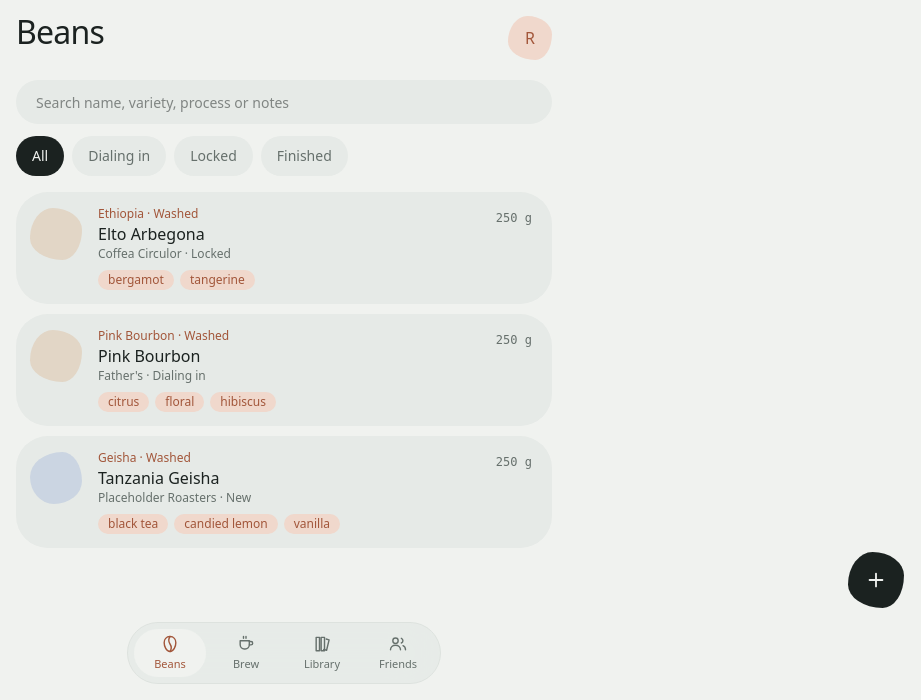
it: Beans: your list › filters by status
Expected: the text "Pink Bourbon" is shown, [98,345,200,367]
Click the button "Locked" at (214, 156), box [174,136,253,176]
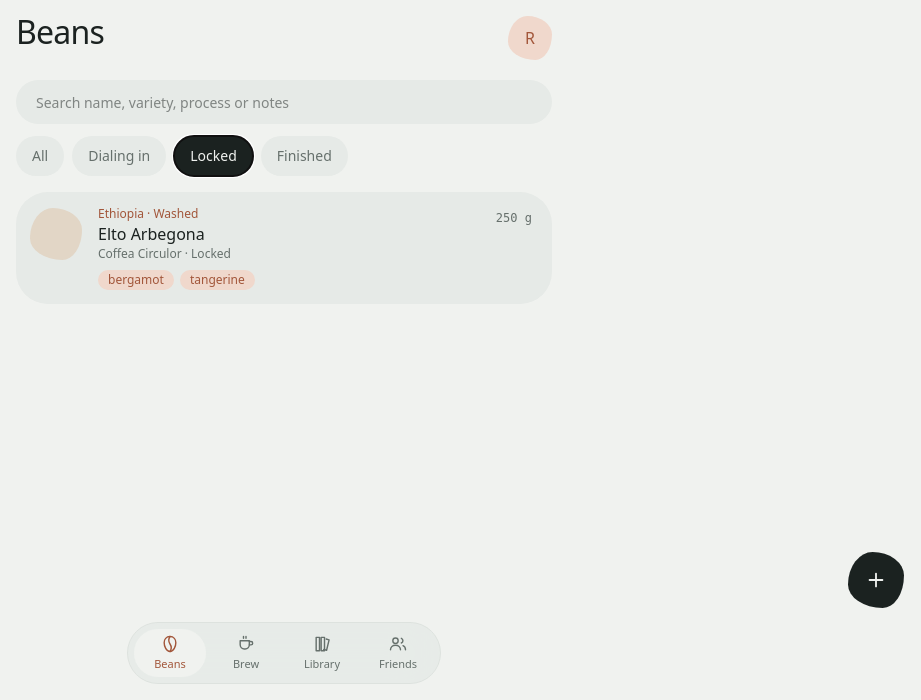
Expected: the text "Elto Arbegona" is shown, [98,223,205,245]
Expected: the link "Pink Bourbon" is gone
